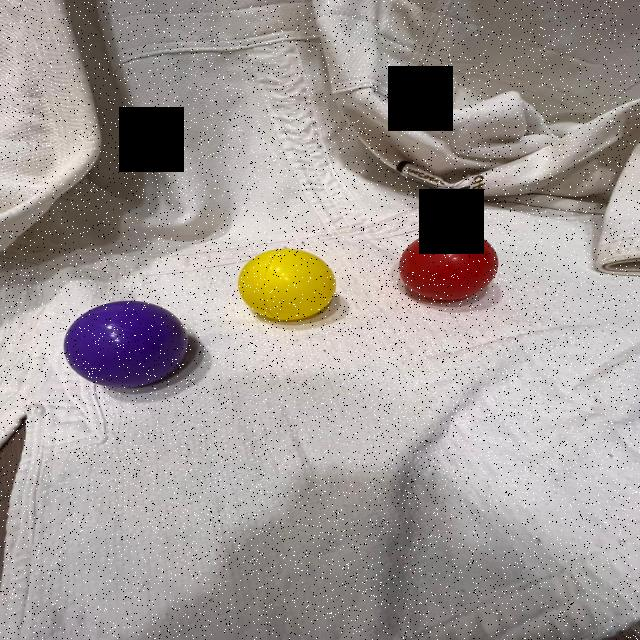ball: (62, 299, 193, 391), (235, 246, 338, 324), (395, 228, 497, 304)
